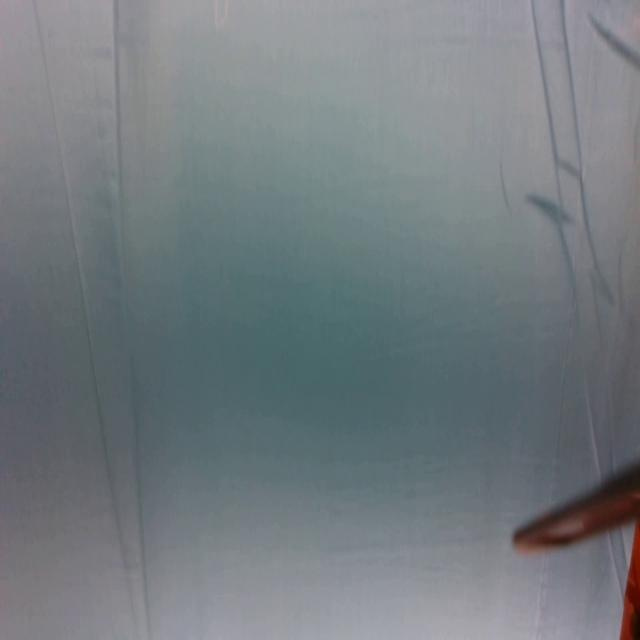crease: (29, 0, 154, 640), (498, 0, 640, 469)
